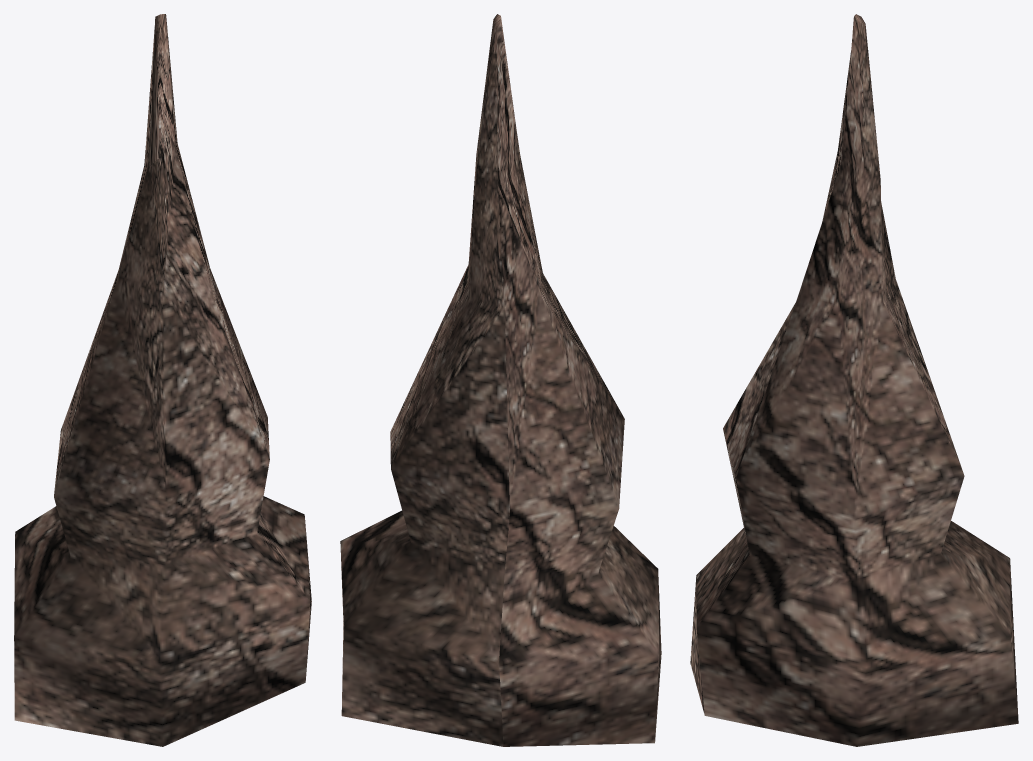
File: Rock2MQ.obj
The picture shows the model from 3 angles, left to right: view 1: azimuth 30°, elevation 25°; view 2: azimuth 150°, elevation 25°; view 3: azimuth 270°, elevation 25°; orthographic projection. The views are drawn at different scales.
Visible parts, largest first — view 1: Cylinder009; view 2: Cylinder009; view 3: Cylinder009.
Part boxes in pixels (x1,y1,x2,y2): Cylinder009: [14, 14, 311, 746]; Cylinder009: [340, 14, 661, 746]; Cylinder009: [690, 14, 1018, 746].
Size of the model in its own units: 27.49 by 58.32 by 24.73.
Materials: 1 (1 with a texture image).
